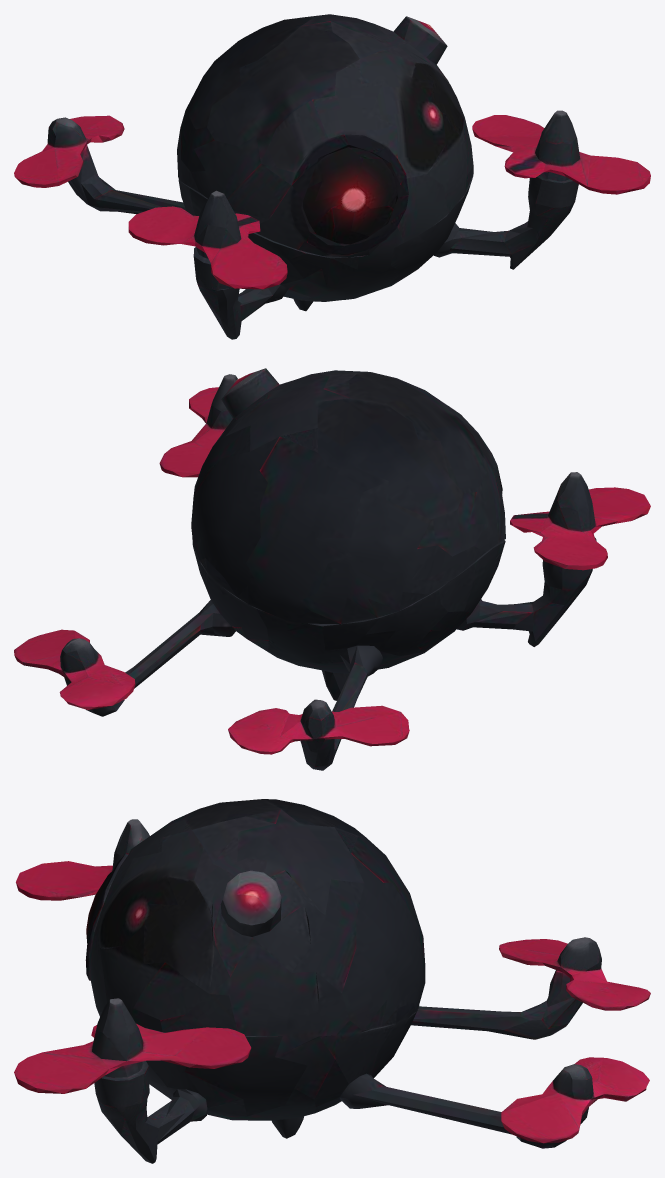
Rendered from mote.glb.
3 views of the same model, one above another, from view 1: azimuth 30°, elevation 25°; view 2: azimuth 150°, elevation 25°; view 3: azimuth 270°, elevation 25° (orthographic). The views are drawn at different scales.
Bounding box in the file's own units: 1.75 × 1.07 × 1.9.
Materials: 1 (1 with a texture image).
